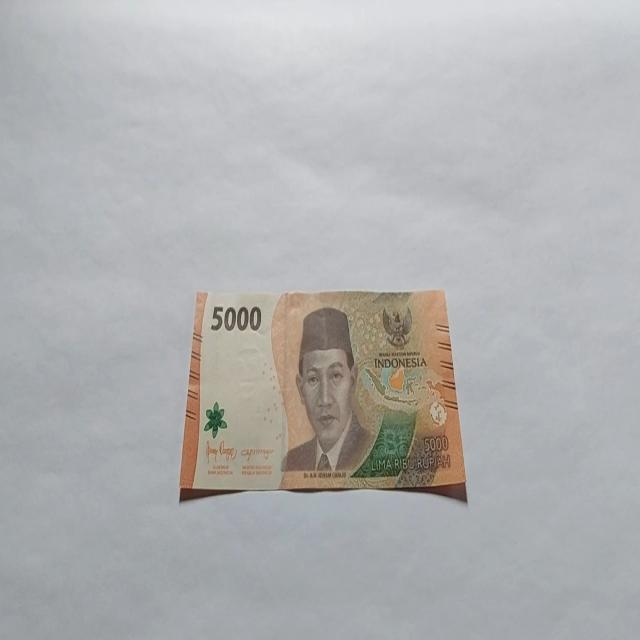lima ribu rupiah: (178, 287, 468, 504), (278, 306, 376, 478)
